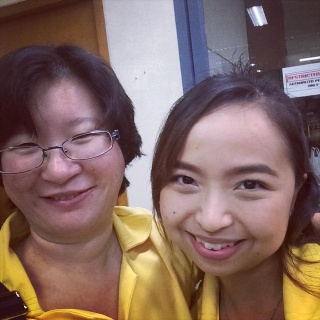without_mask: (158, 101, 296, 276)
